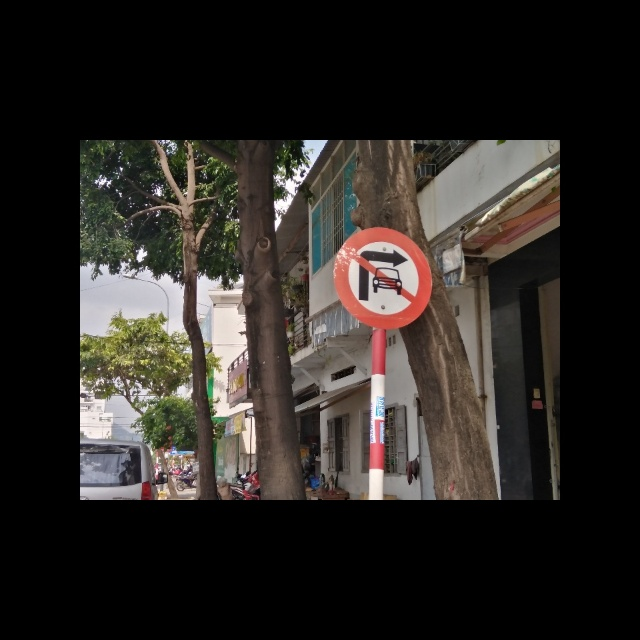Cấm xe ô tô rẽ trái: (331, 227, 433, 331)
